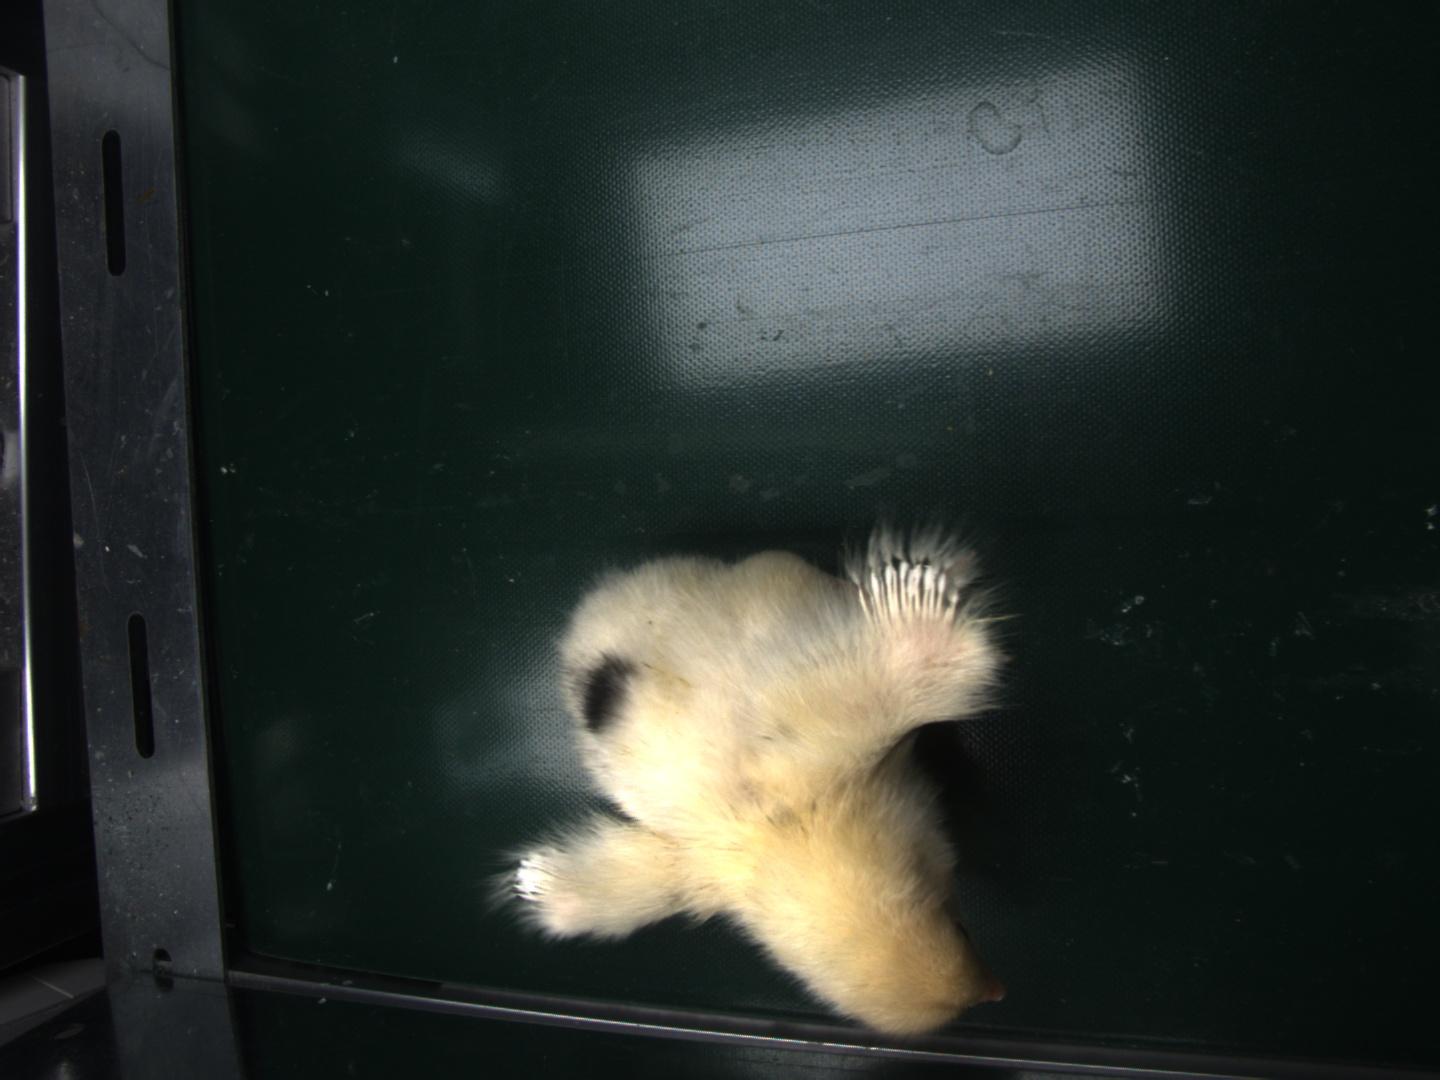male: (855, 557, 958, 625)
